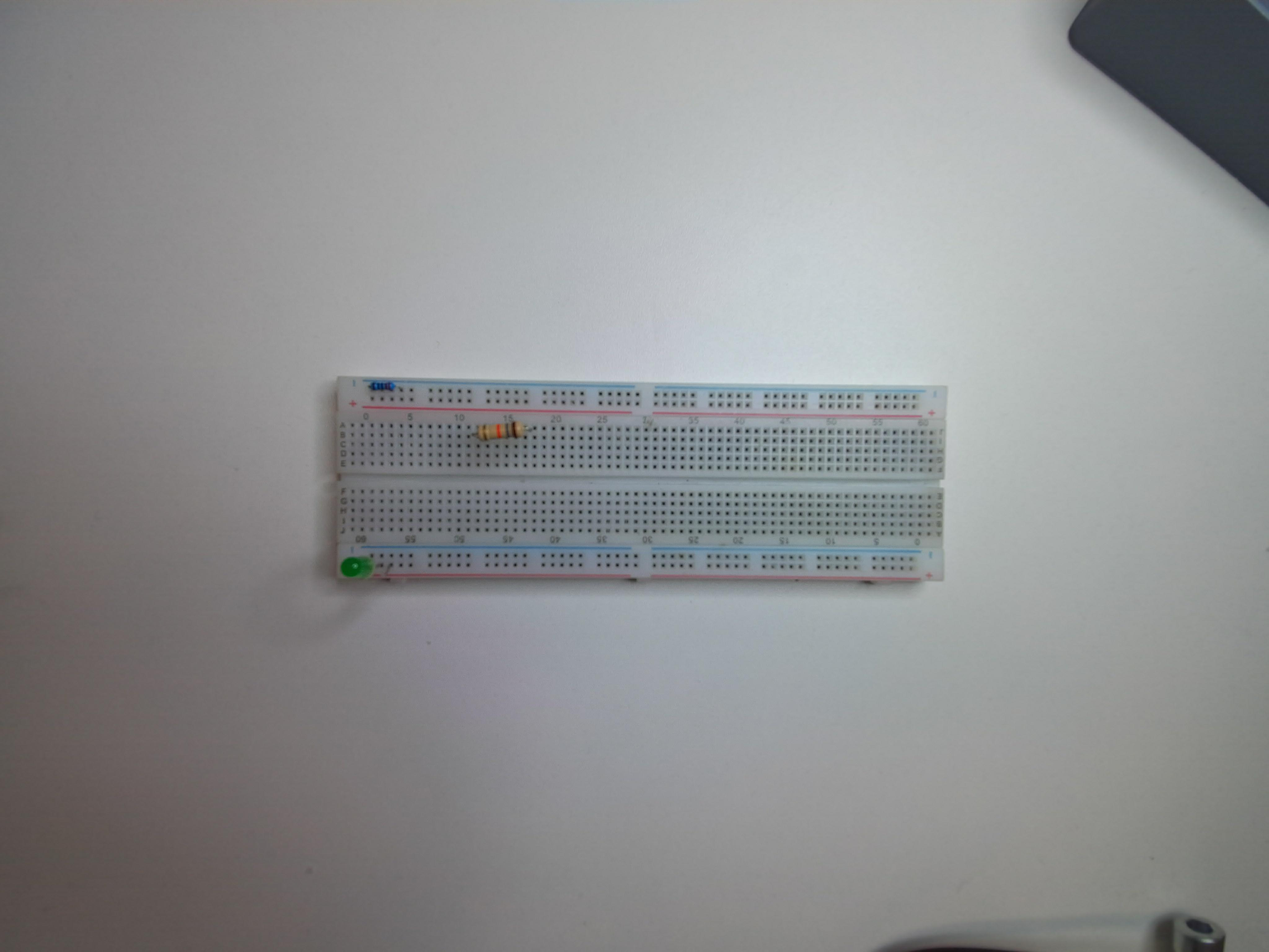base: (308, 381, 951, 590)
green-led: (335, 555, 376, 583)
resistor-big: (476, 418, 525, 442)
resistor-small: (366, 375, 395, 395)
